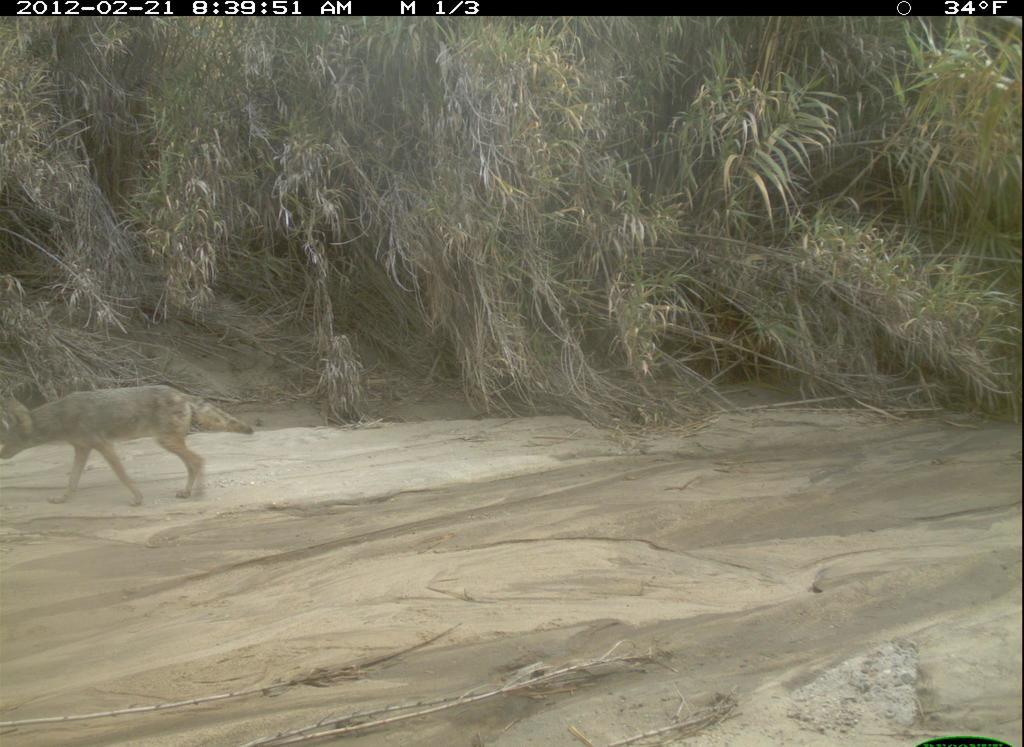coyote: (1, 385, 259, 510)
